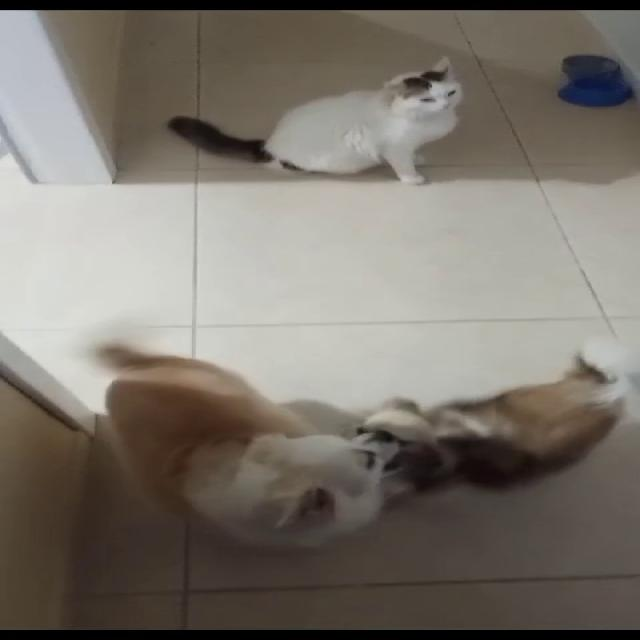Pedrita: (375, 328, 570, 534)
Simba: (171, 34, 589, 211)
Theo: (59, 294, 404, 571)
